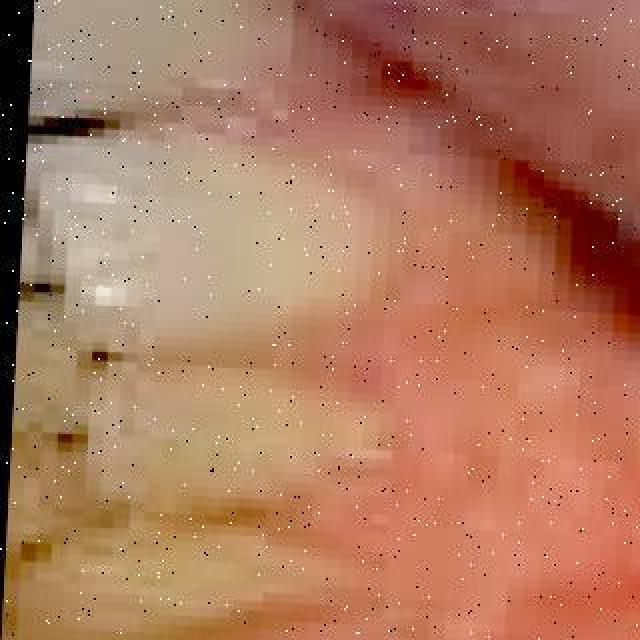spacing: (10, 86, 174, 182)
